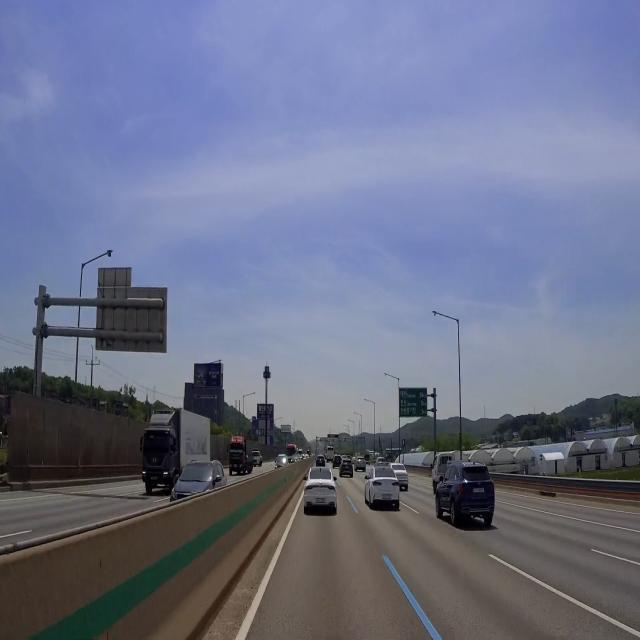car: (472, 483, 488, 499), (313, 494, 329, 508), (381, 491, 394, 508), (149, 474, 162, 483)
